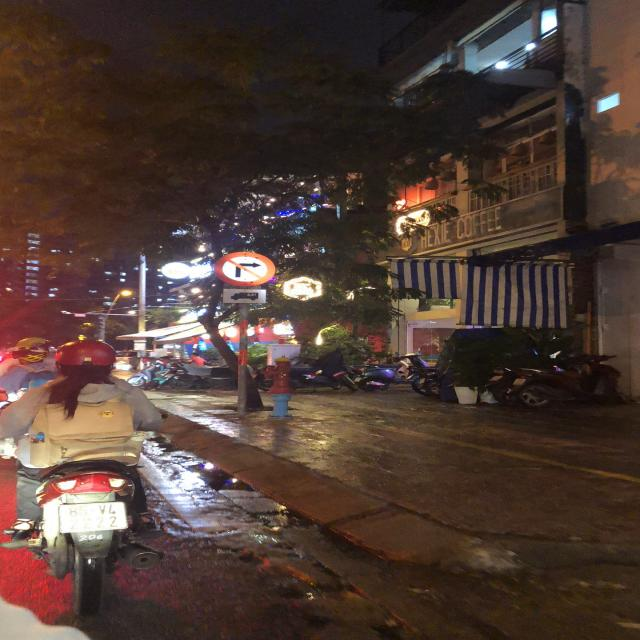Bien bao cam re phai: (212, 250, 276, 288)
